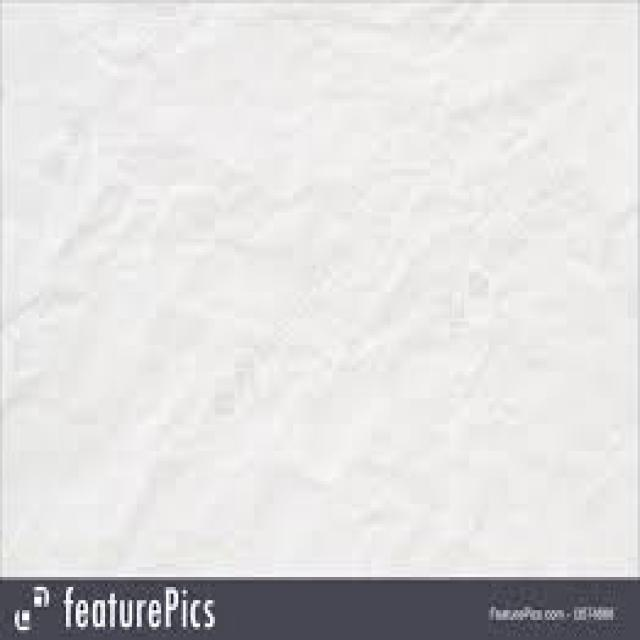paper: (0, 0, 638, 574)
